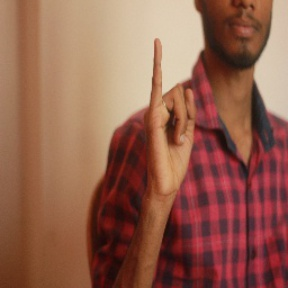I: (142, 38, 200, 195)
